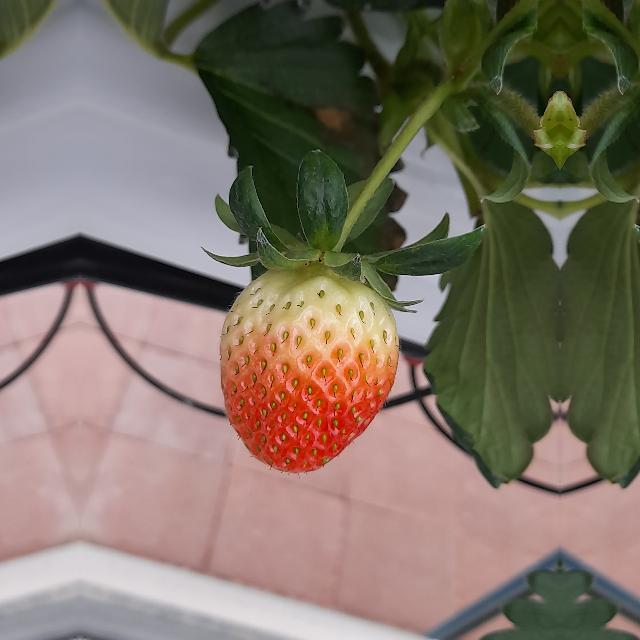Health_75: (220, 262, 398, 472)
